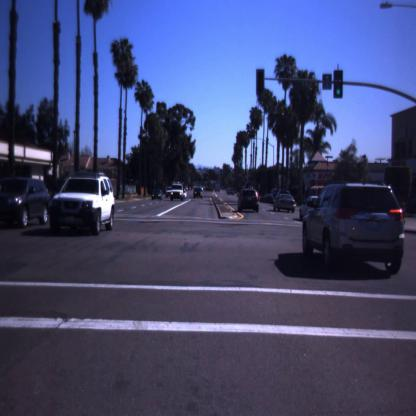trafficlight: (252, 62, 268, 101), (332, 66, 346, 104)
